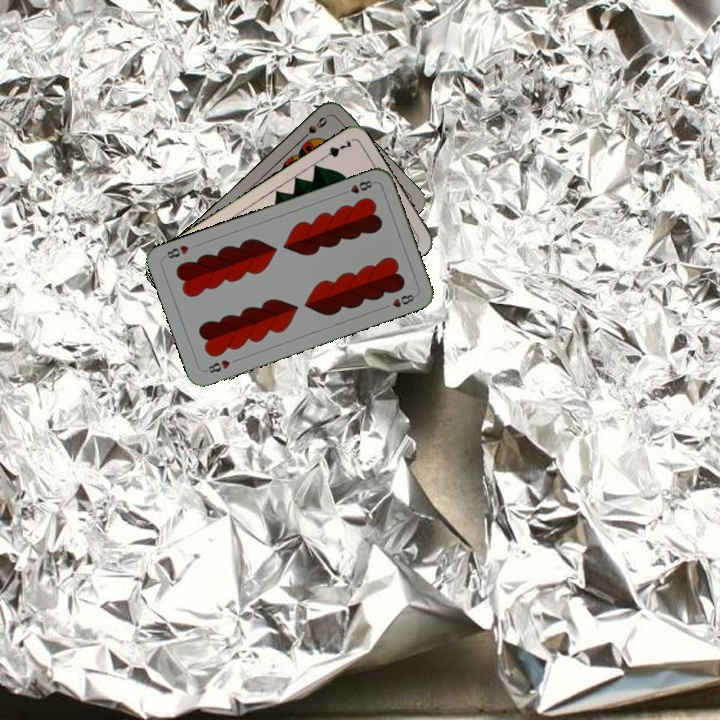G7: (317, 136, 355, 163)
H8: (338, 176, 377, 197), (201, 355, 232, 376)
S9: (296, 113, 330, 144)
